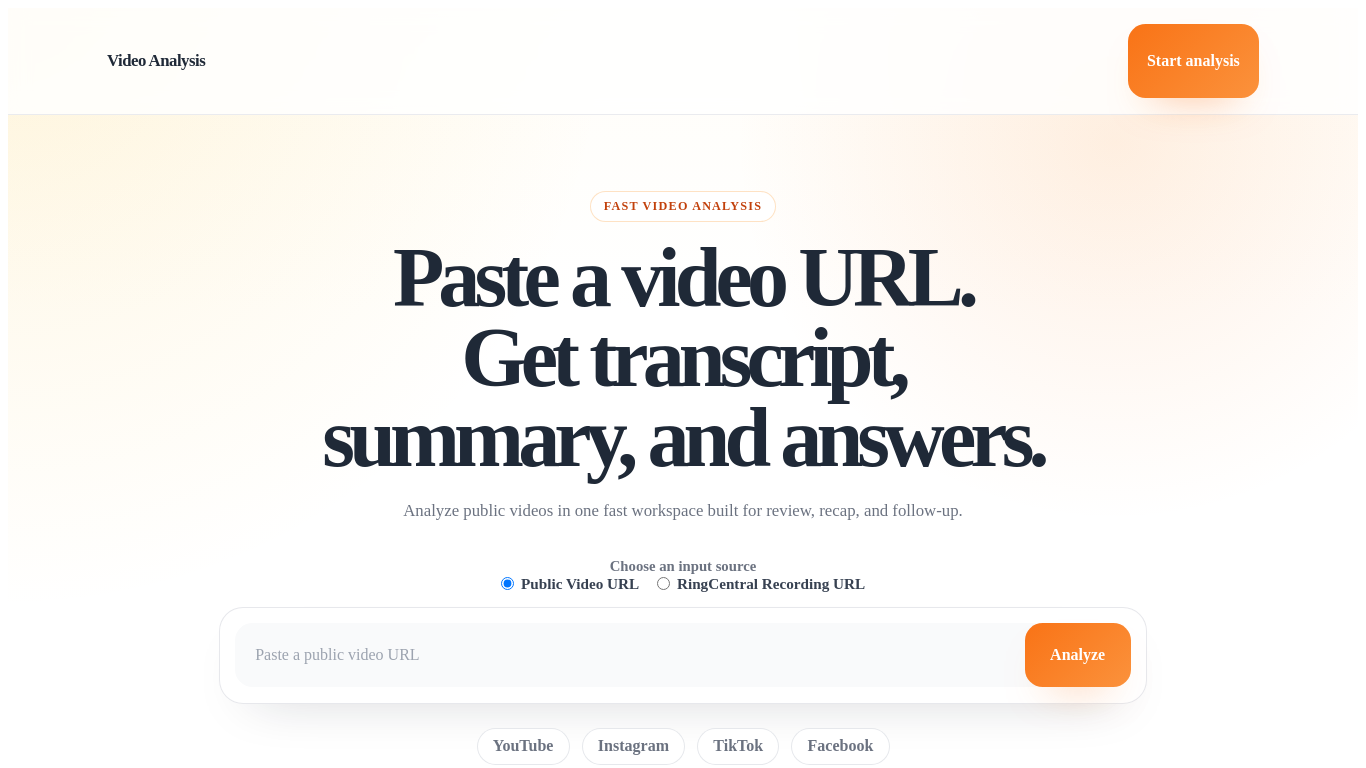
it: maps backend completed status to a complete timeline state
Type "https://example.com/video" into the field named "Video source" at (643, 656), box [235, 624, 1050, 688]
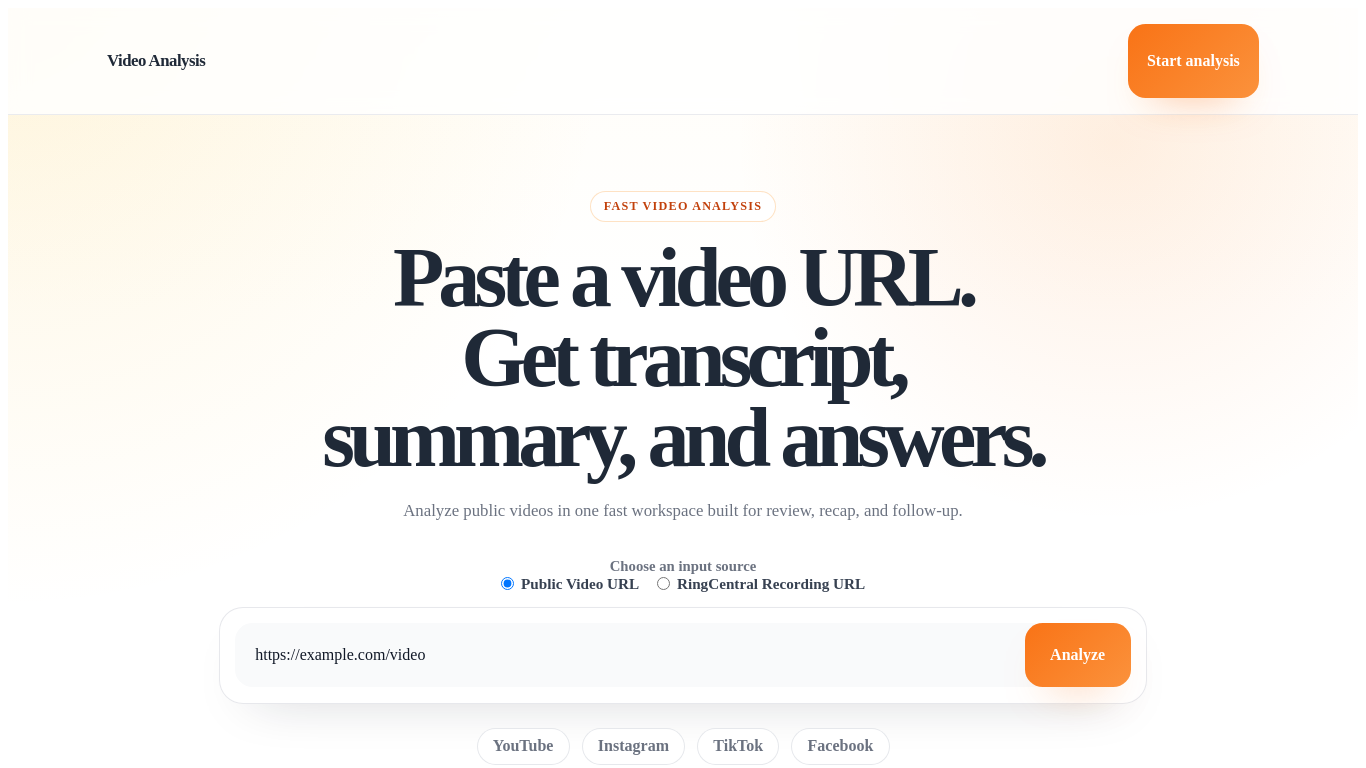
Click the button "Analyze" at (1078, 656), box [1024, 624, 1131, 688]
(page scrolled)
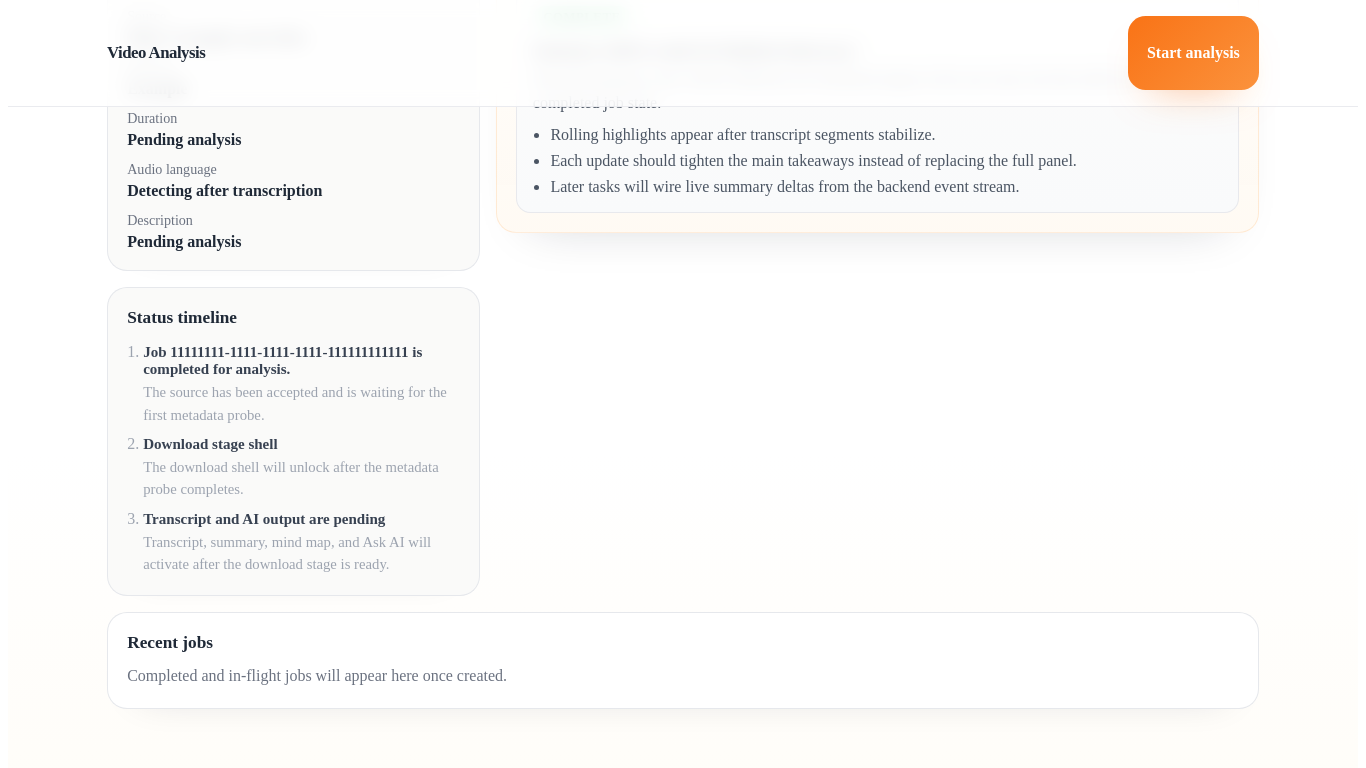
Now the text "Job 11111111-1111-1111-1111-111111111111 is completed for analysis." is shown, box [143, 344, 459, 378]
